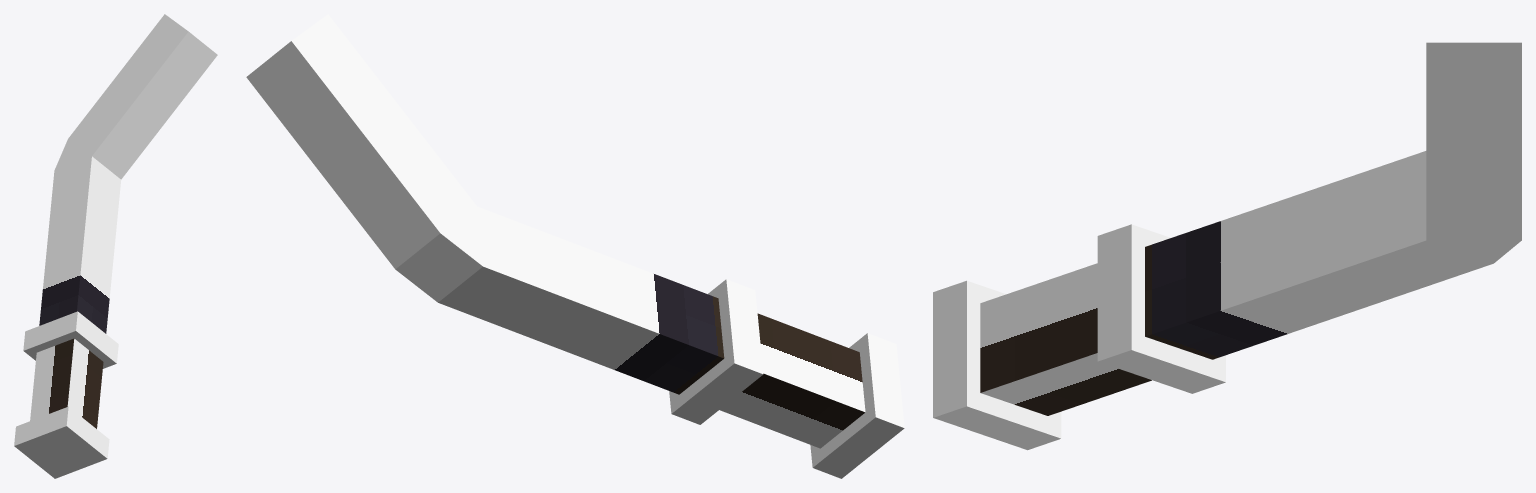
The model's file is impulse_cannon_arm_open.obj.
3 views of the same model, side by side, from view 1: azimuth 30°, elevation 25°; view 2: azimuth 150°, elevation 25°; view 3: azimuth 270°, elevation 25° (orthographic). The views are drawn at different scales.
Visible parts, largest first — view 1: Side_Handle_Open_Cube.001; view 2: Side_Handle_Open_Cube.001; view 3: Side_Handle_Open_Cube.001.
Boxes of the visible parts, box(x1,y1,x2,y2) form: Side_Handle_Open_Cube.001: box(14, 14, 217, 478); Side_Handle_Open_Cube.001: box(246, 14, 904, 478); Side_Handle_Open_Cube.001: box(933, 42, 1521, 450).
Bounding box in the file's own units: 0.4585 × 0.4585 × 0.3852.
